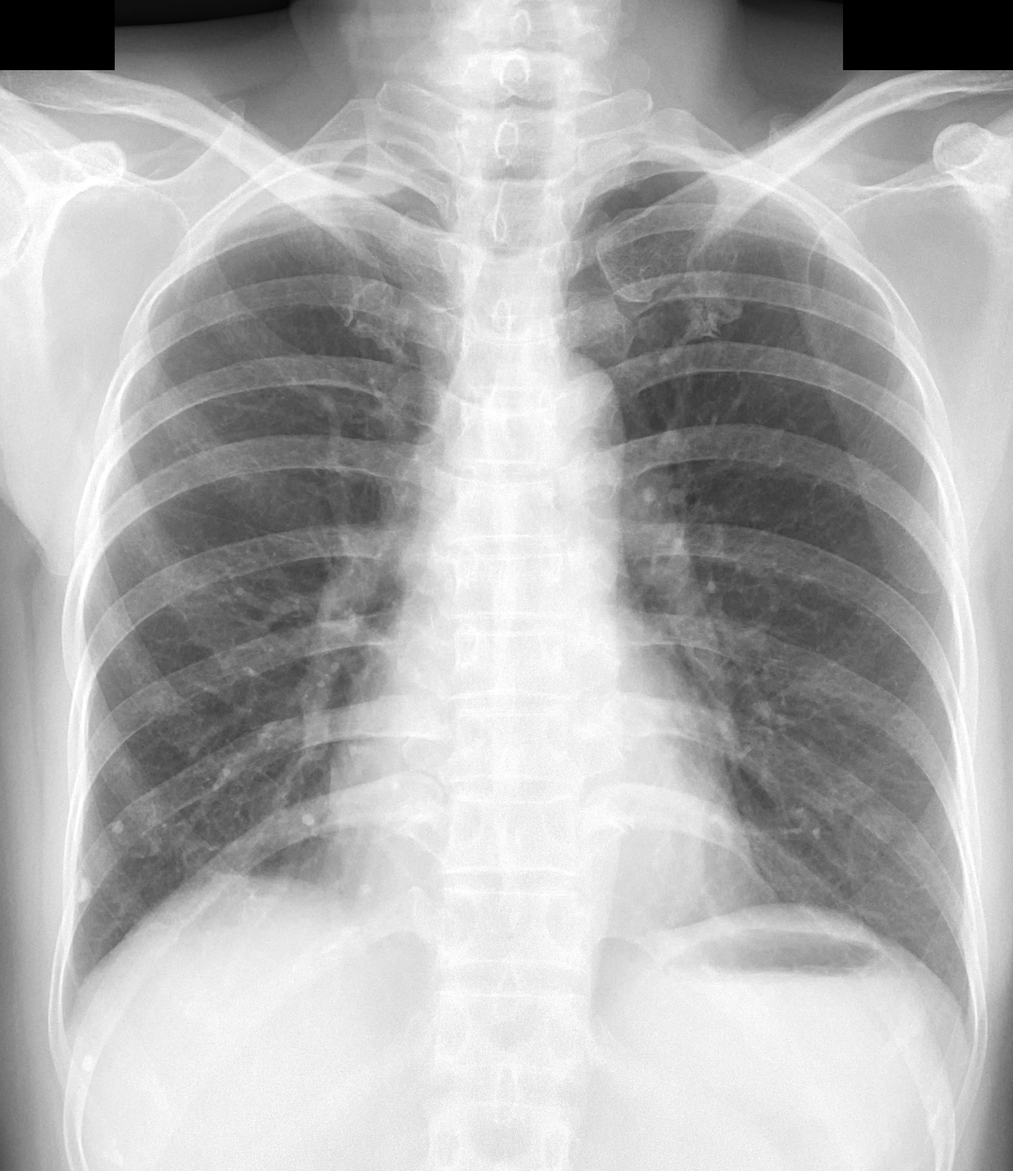Pleural thickening: (224, 174, 387, 229)
